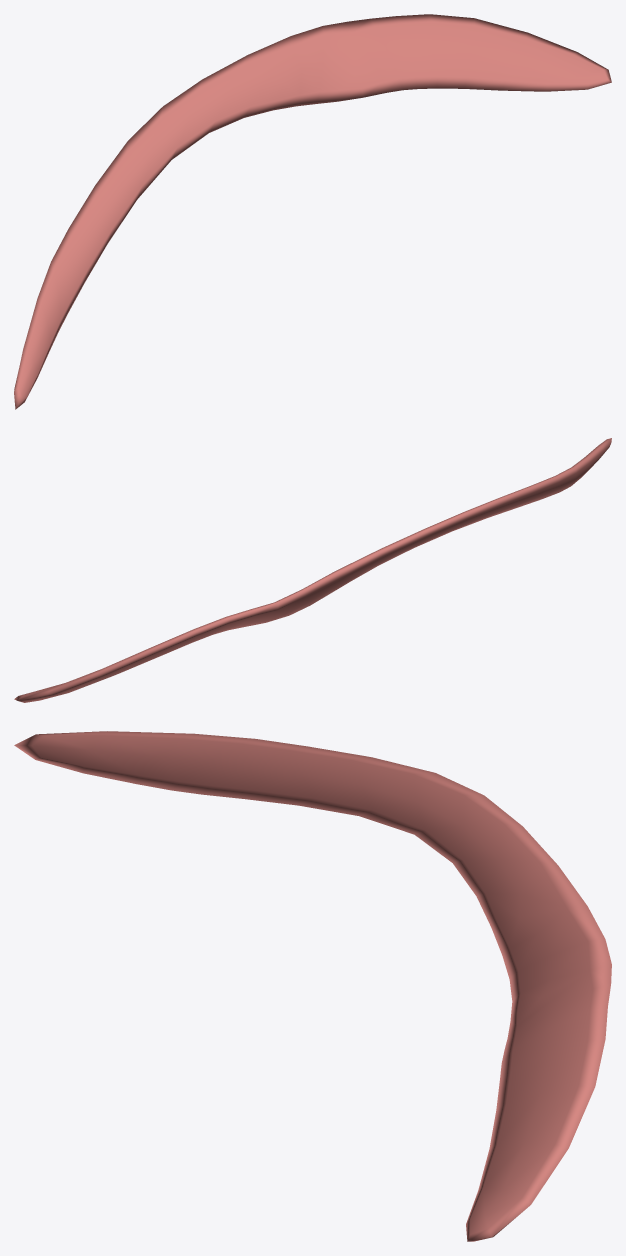
The picture shows the model from 3 angles, top to bottom: view 1: azimuth 30°, elevation 25°; view 2: azimuth 210°, elevation 25°; view 3: azimuth 270°, elevation 25°; orthographic projection. The views are drawn at different scales.
Parts seen in each view (by area): view 1: ZA_dafe99de37821b8f; view 2: ZA_dafe99de37821b8f; view 3: ZA_dafe99de37821b8f.
Part boxes in pixels (box(x1,y1,x2,y2)): ZA_dafe99de37821b8f: box(14, 14, 611, 409); ZA_dafe99de37821b8f: box(14, 438, 611, 702); ZA_dafe99de37821b8f: box(14, 731, 611, 1241).
Bounding box in the file's own units: 0.0371 × 0.00582 × 0.017.
